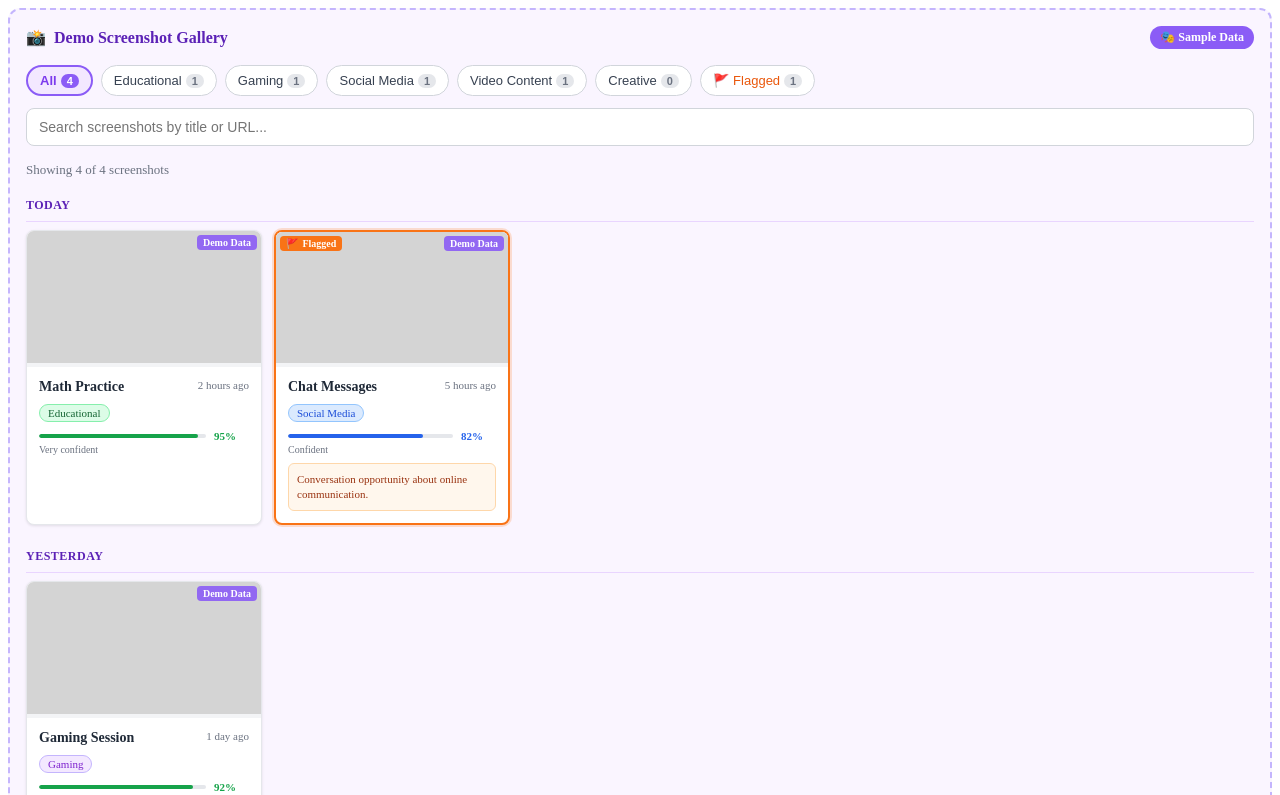
DemoScreenshotGallery (Story 8.5.2) › AC6: Filter chips › should filter by category when chip clicked
The image size is (1280, 795).
Note: Click Educational filter
Click the button with test id "filter-chip-educational".
click(159, 80)  # box [101, 65, 217, 96]
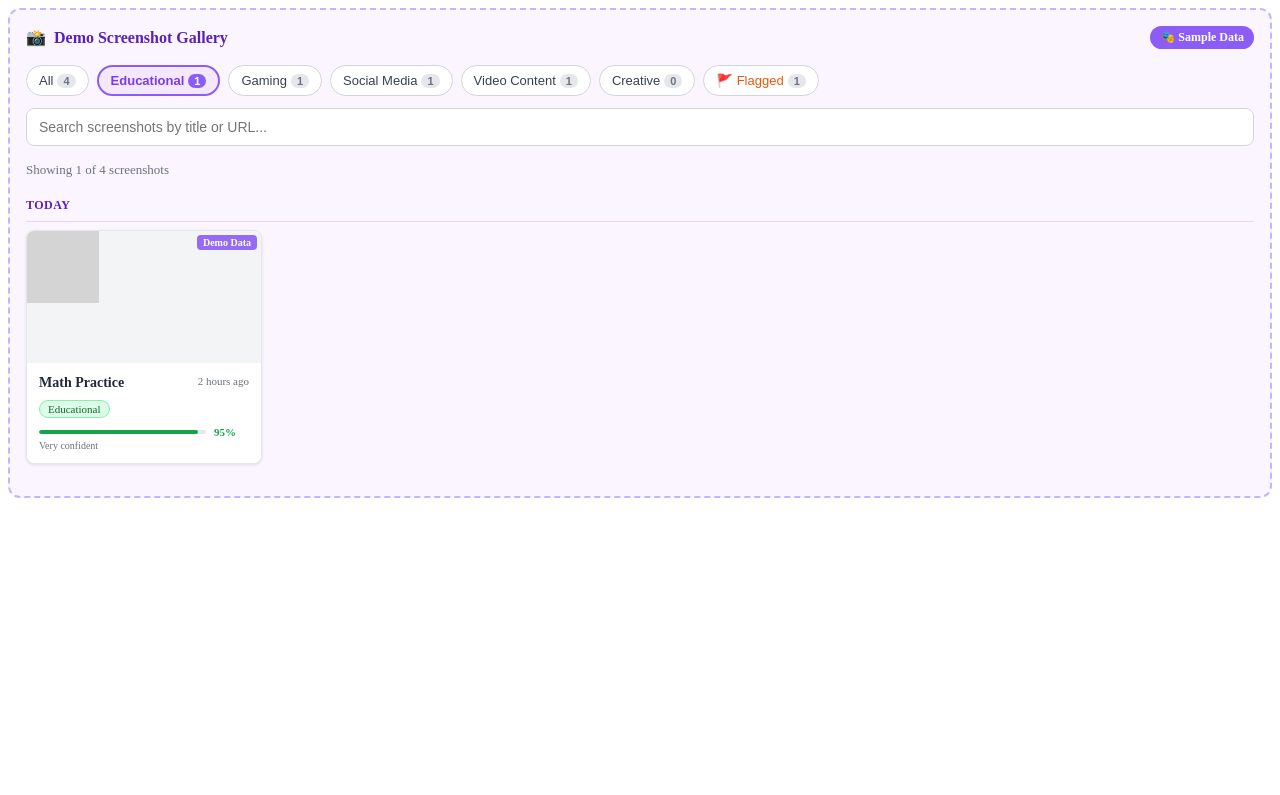
Expected: the text with test id "results-count" shows "Showing 1 of 4", [26, 162, 169, 177]
